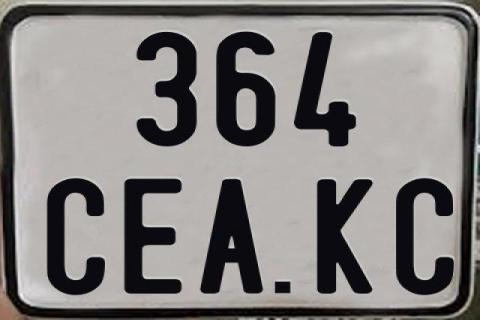0: (293, 30, 358, 148), (136, 32, 199, 151), (214, 32, 275, 150)
A: (199, 178, 264, 294)
C: (44, 176, 107, 297), (396, 176, 456, 293)
E: (122, 177, 182, 296)
K: (316, 177, 375, 295)
